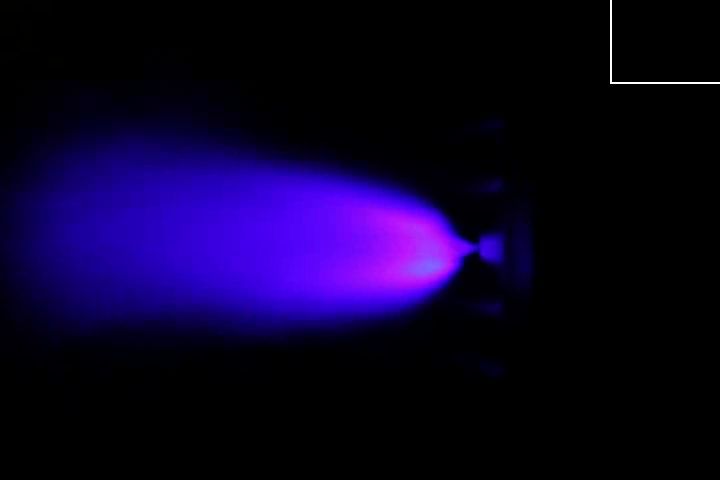burner cap: (472, 231, 511, 269)
unstable: (321, 166, 479, 327)
